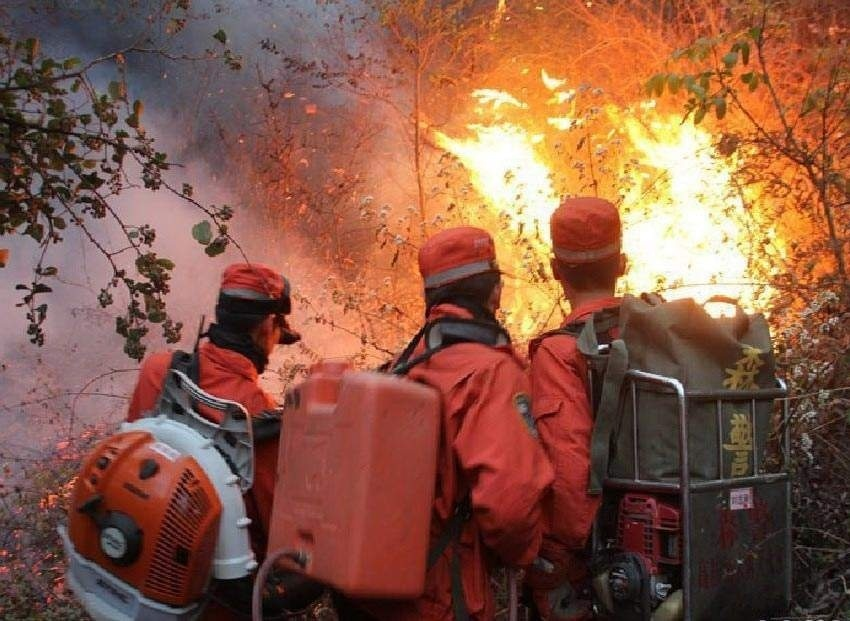fire: (415, 65, 830, 326)
